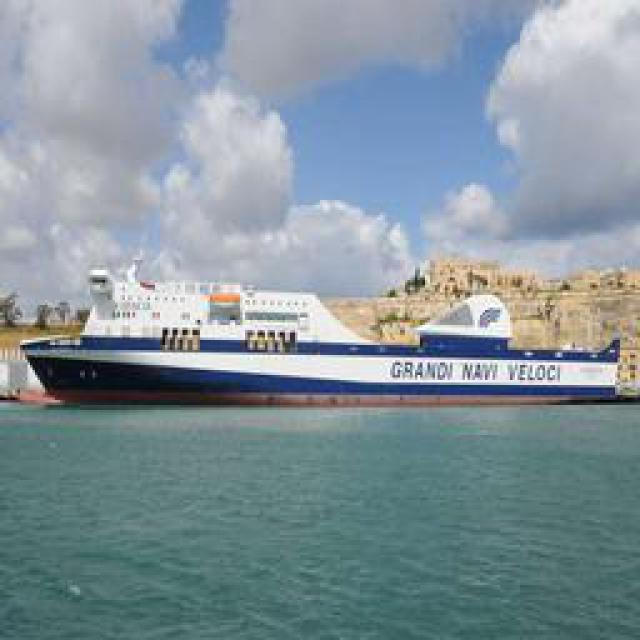Ship: (28, 265, 633, 408)
